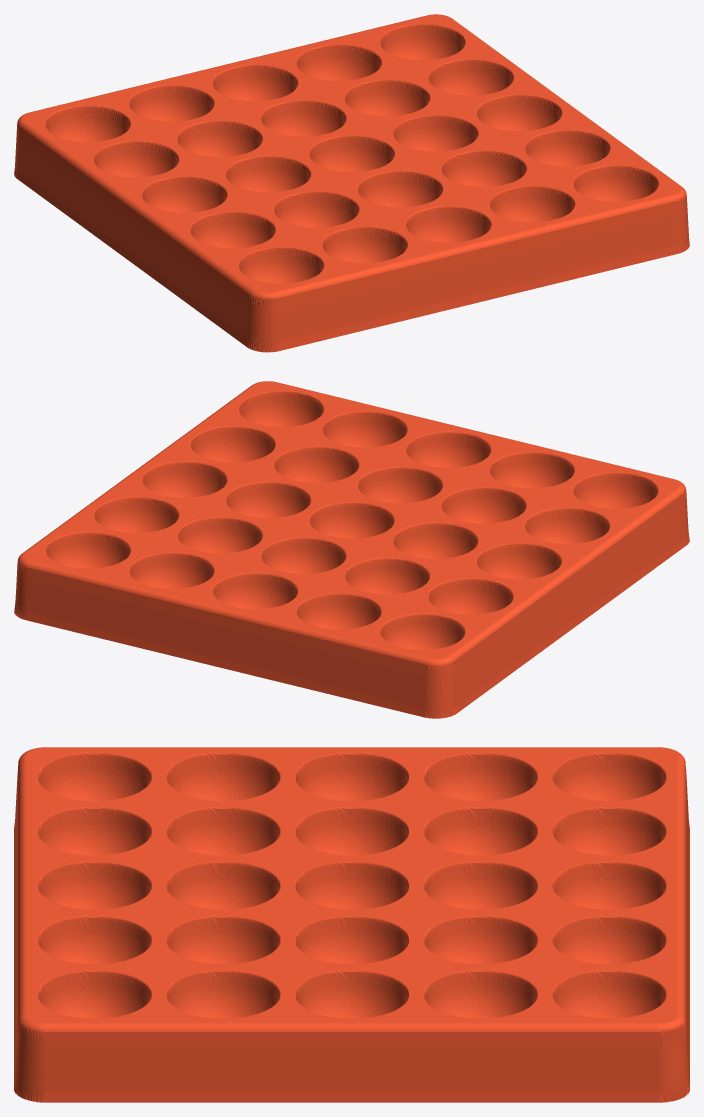
Rendered from mold.glb.
The picture shows the model from 3 angles, top to bottom: view 1: azimuth 30°, elevation 25°; view 2: azimuth 150°, elevation 25°; view 3: azimuth 270°, elevation 25°; orthographic projection. The views are drawn at different scales.
Parts seen in each view (by area): view 1: geometry_0; view 2: geometry_0; view 3: geometry_0.
Boxes of the visible parts, x1,y1,x2,y2 form: geometry_0: [14, 14, 689, 352]; geometry_0: [14, 381, 689, 718]; geometry_0: [14, 747, 689, 1102].
Bounding box in the file's own units: 0.193 × 0.0234 × 0.193.
